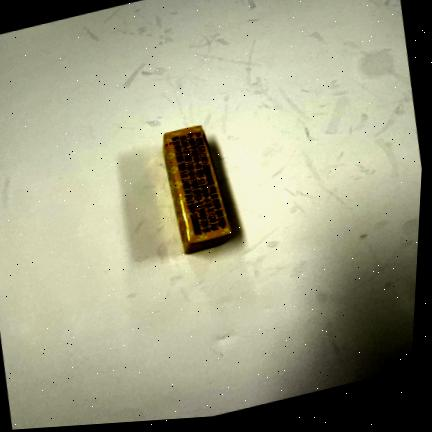gum_yellow: (162, 124, 235, 254)
